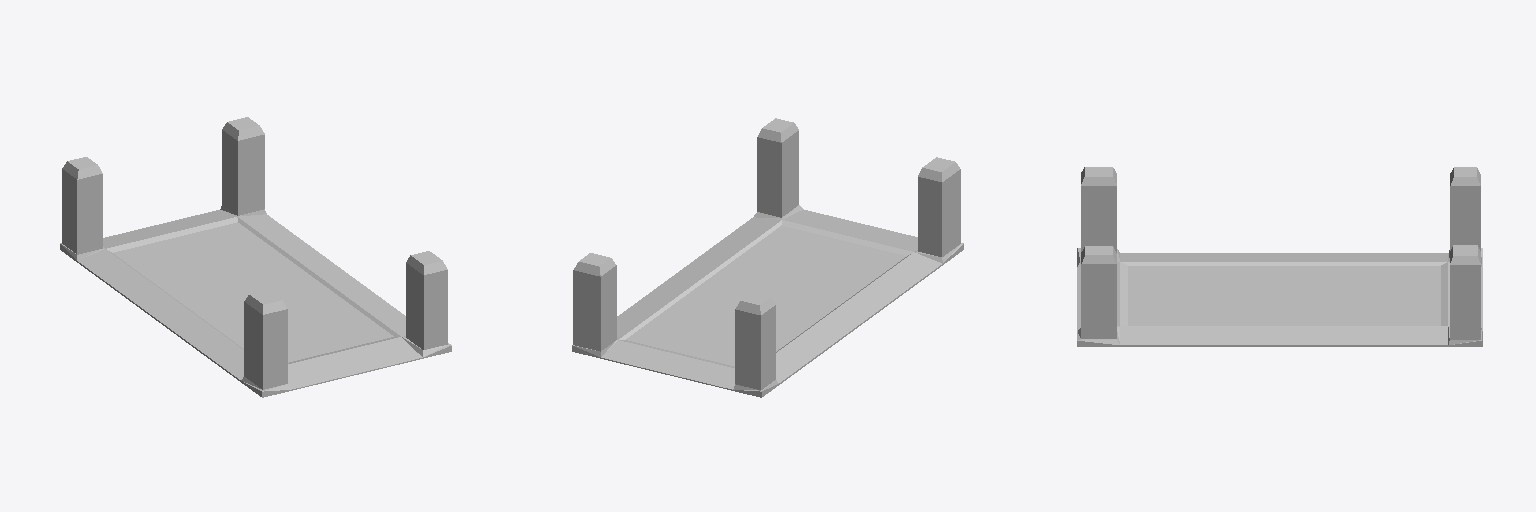
The model's file is vehicleslot.obj.
3 views of the same model, side by side, from view 1: azimuth 30°, elevation 25°; view 2: azimuth 150°, elevation 25°; view 3: azimuth 270°, elevation 25° (orthographic).
Parts seen in each view (by area): view 1: polySurface101; view 2: polySurface101; view 3: polySurface101.
Boxes of the visible parts, box(x1,y1,x2,y2) form: polySurface101: box(60, 117, 451, 397); polySurface101: box(572, 118, 963, 397); polySurface101: box(1077, 167, 1482, 346).
Bounding box in the file's own units: 8.85 × 3.98 × 16.35.